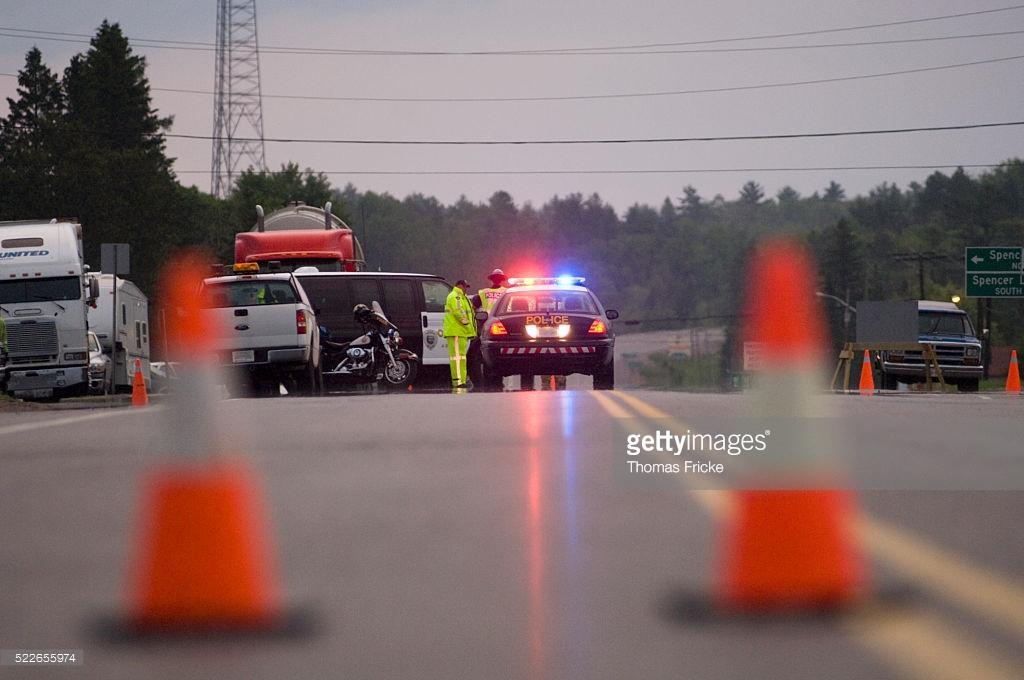Cone: (95, 251, 308, 630), (713, 243, 880, 635)
